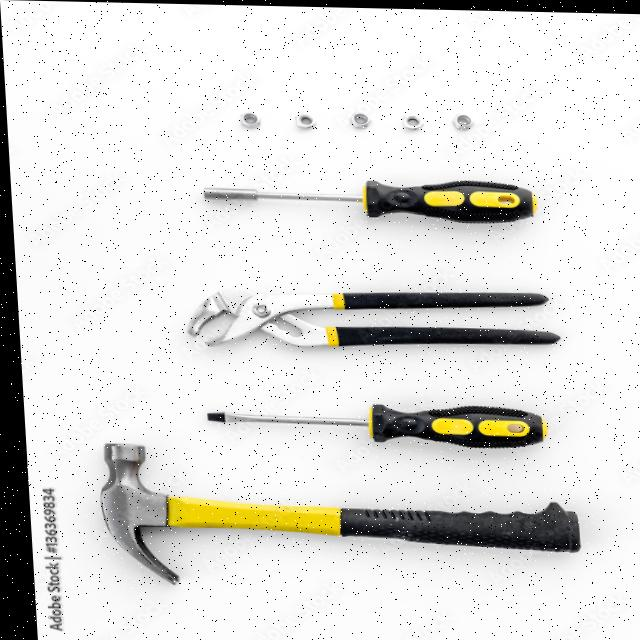Screwdriver: (202, 402, 543, 445), (202, 178, 536, 220)
